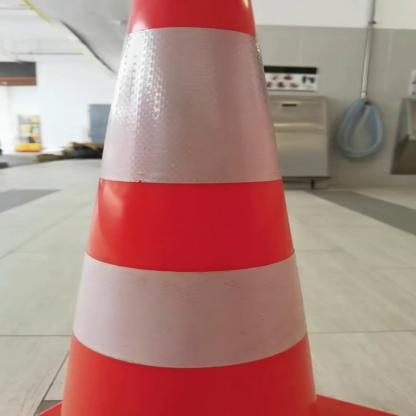cone: (33, 0, 408, 416)
